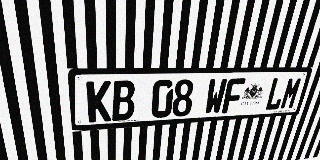0: (151, 79, 174, 118)
8: (171, 79, 195, 117)
B: (112, 80, 135, 121)
F: (221, 78, 246, 114)
K: (86, 81, 111, 123)
L: (264, 77, 288, 111)
M: (279, 77, 303, 110)
W: (203, 78, 228, 115)
